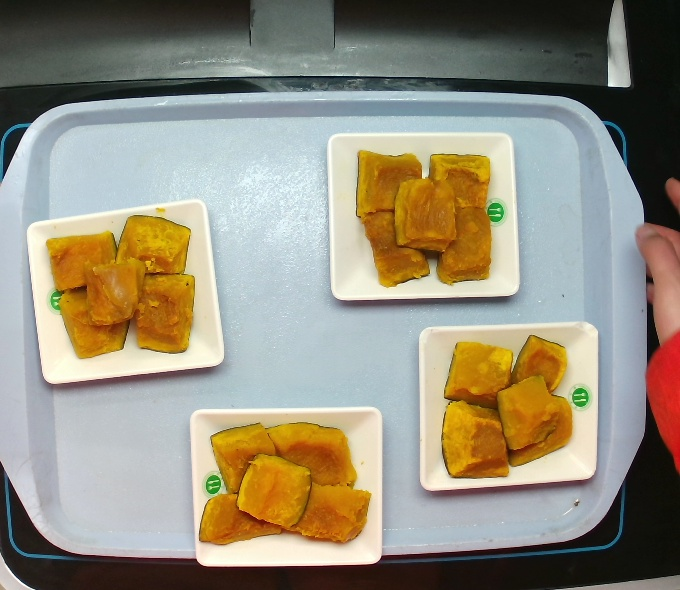wcq-RiBenNanGua: (199, 414, 380, 561), (51, 208, 196, 368), (434, 339, 577, 480), (356, 148, 501, 286)
